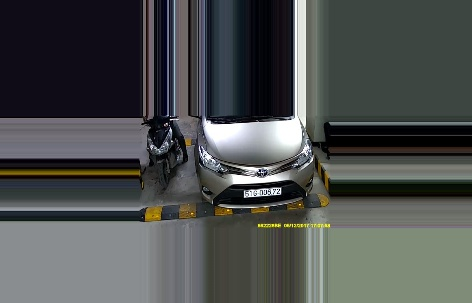plate: (243, 186, 284, 195)
